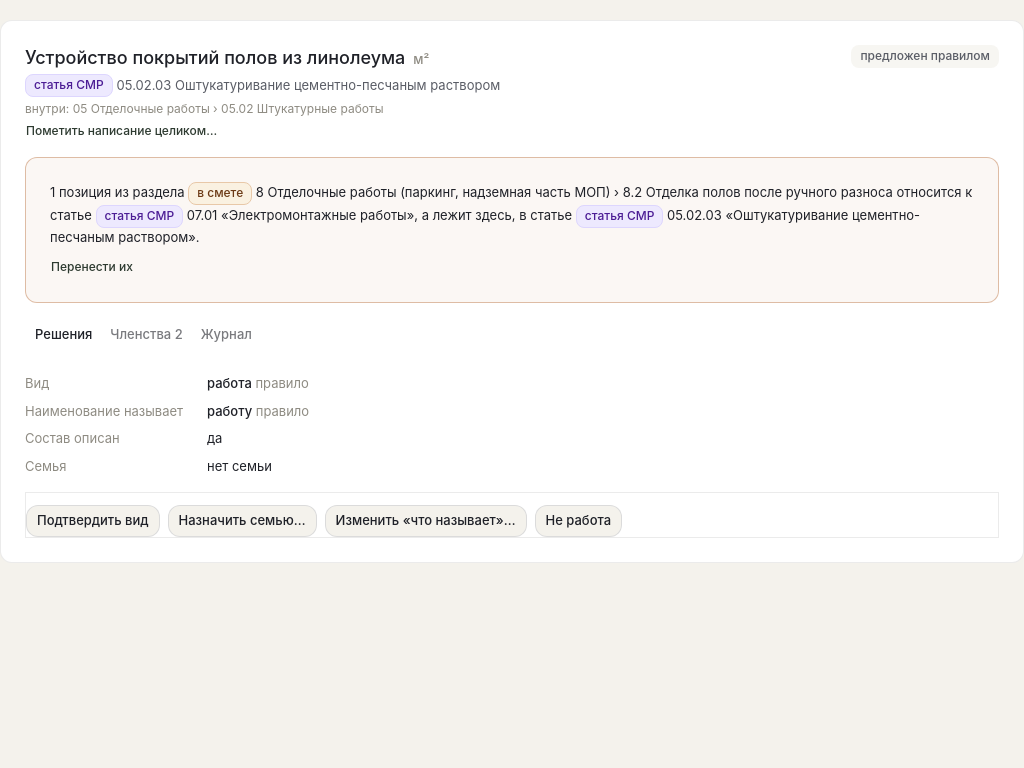
Scenario: ContextCard › устаревшая строка несёт ТОЛЬКО действие переноса, без действий конфликта
Expected: the heading "Устройство покрытий полов из линолеума" is shown, 25,47 -> 405,68
Click the tab "Членства 2": (146, 334) 103,322 -> 190,347
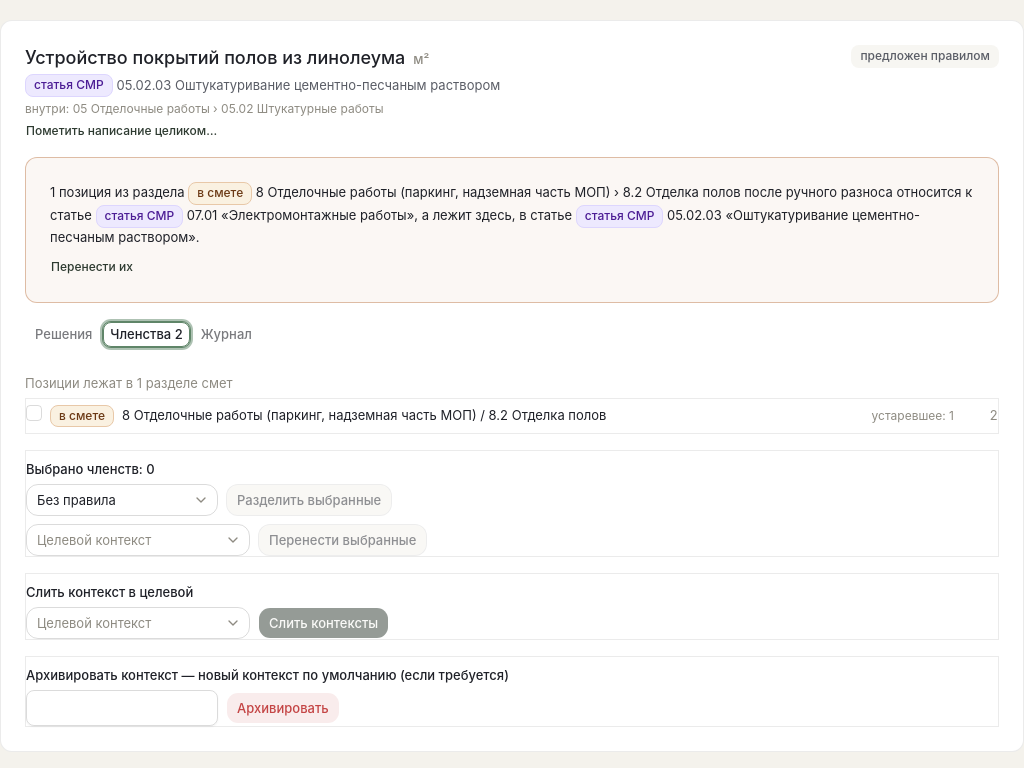
Click the button with aria-label "Раскрыть группу «8 Отделочные работы": (524, 416) 50,405 -> 998,428
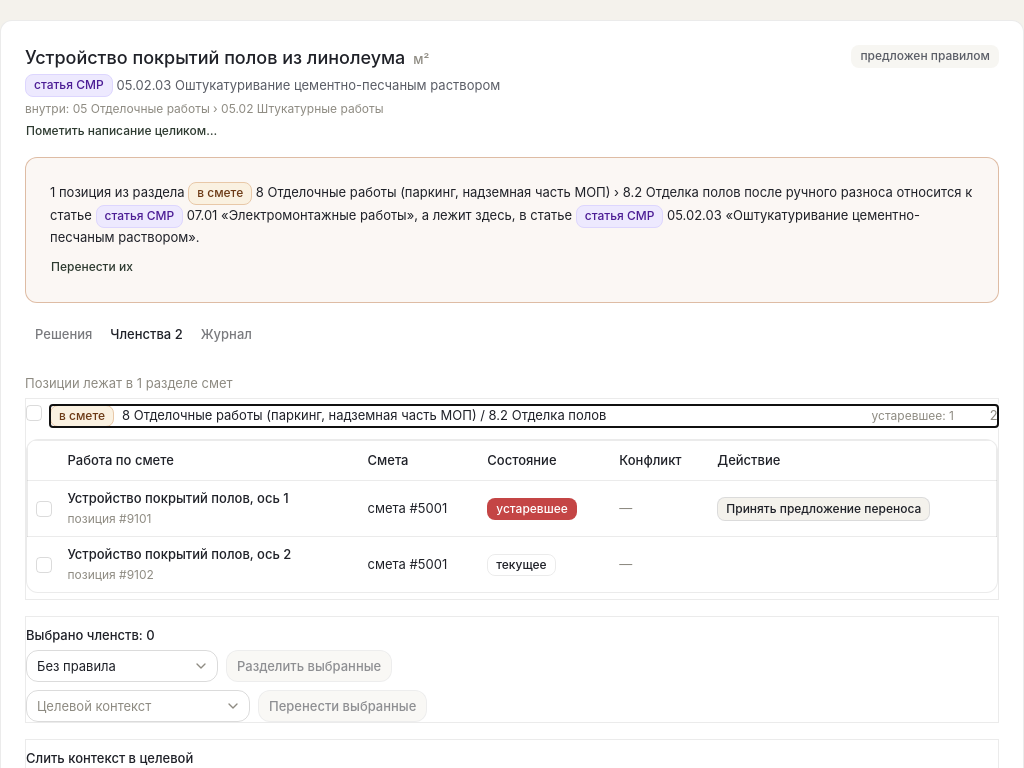
Now the button "Принять предложение переноса" is shown, box 717,497 -> 930,521
